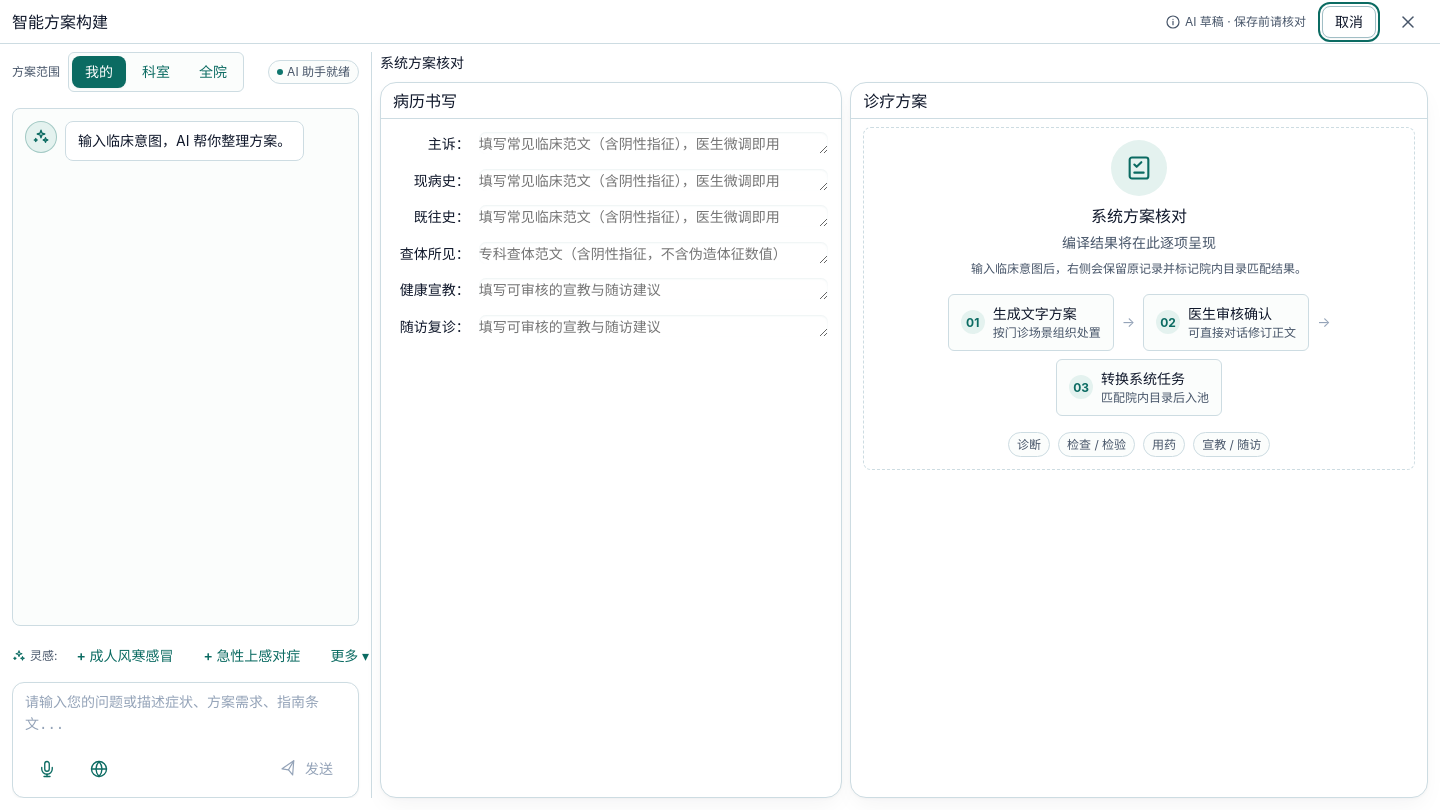
Test case: AiPlanTemplateDraftModal › separates medication strength from a single dose: 常规用法：0.5g 口服 tid 7-10天；核对适用条件
Type "测试方案" into the text box with placeholder "请输入您的问题或描述症状、方案需求、指南条文..." at (186, 715), box [25,691,346,739]
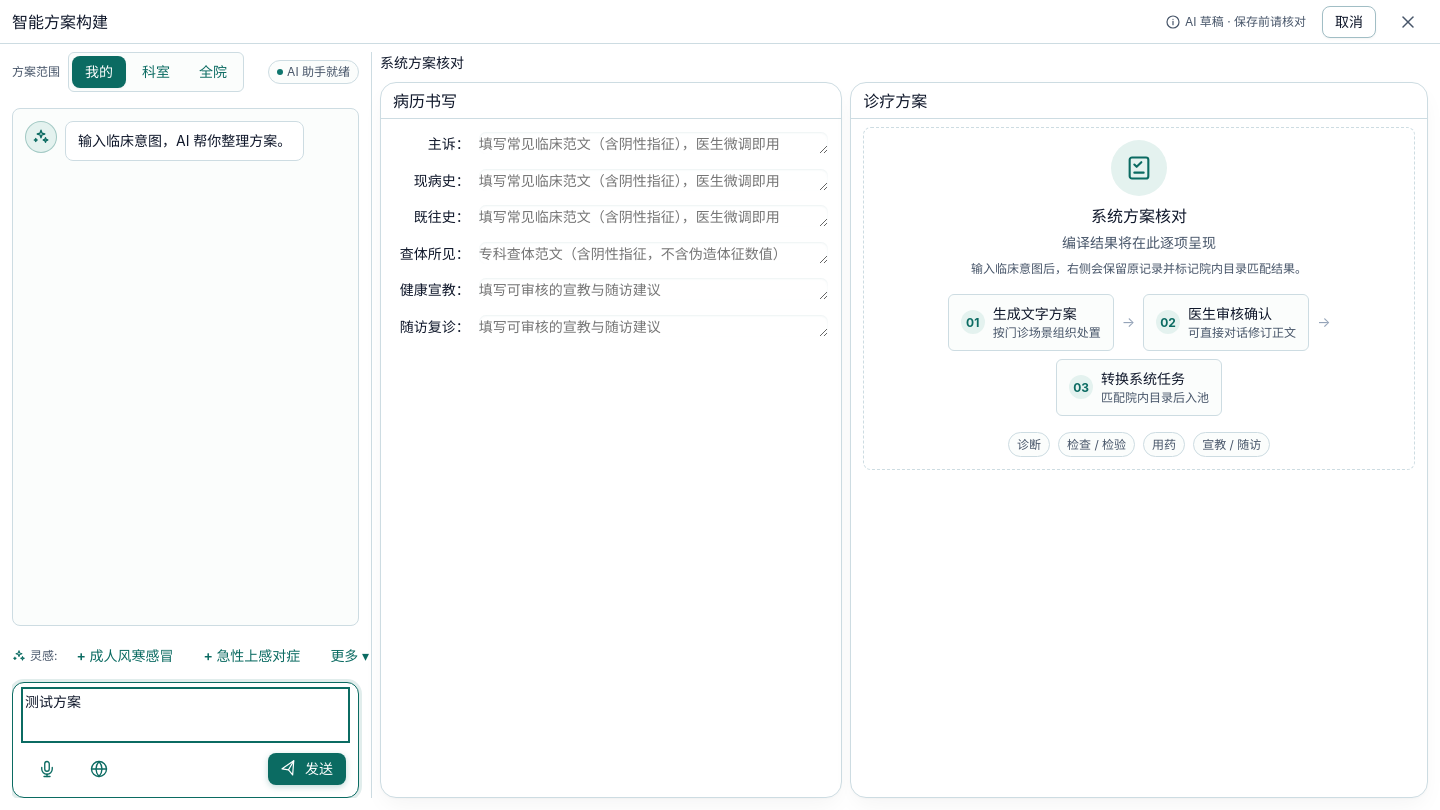
Click the button "发送" at (307, 769), box [268,753,346,785]
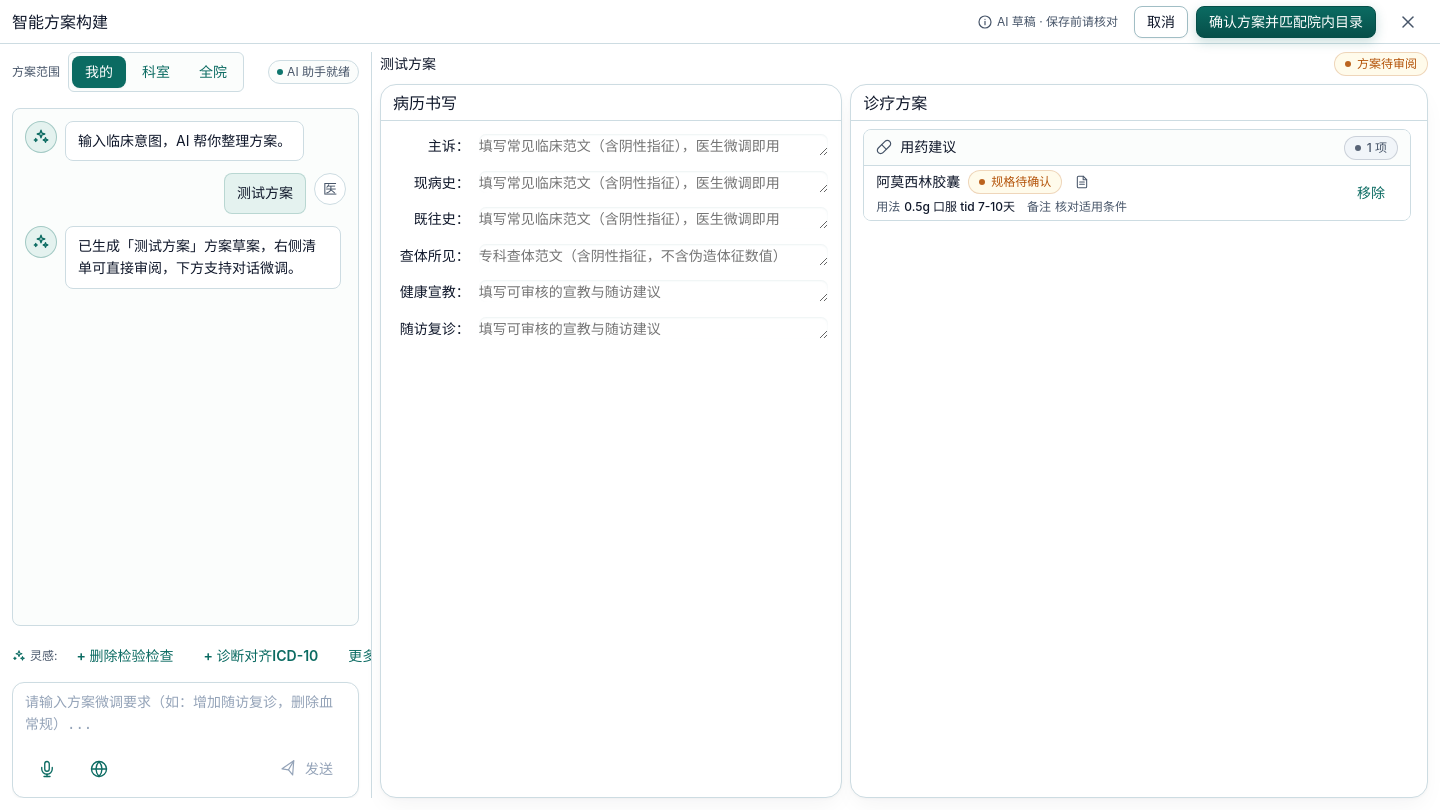
Check: the text "规格待确认" is shown, box [968,170,1062,194]
Check: the element named "临床用药说明" is shown, box [876,199,1127,214]
